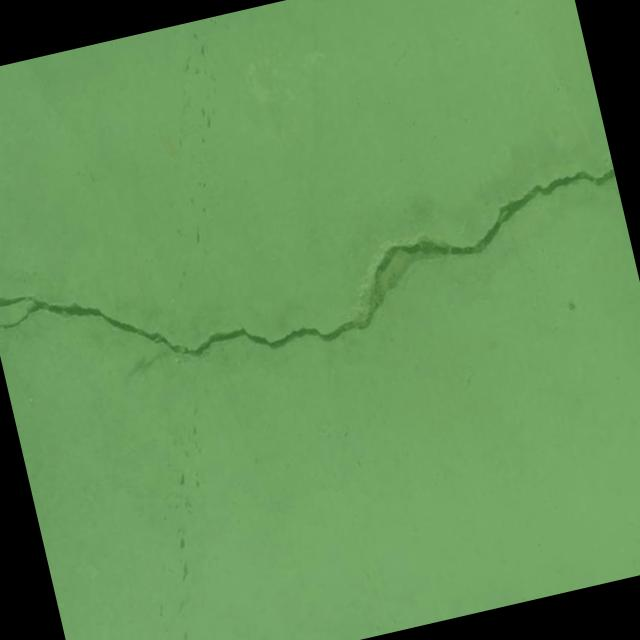crack: (0, 150, 637, 415)
